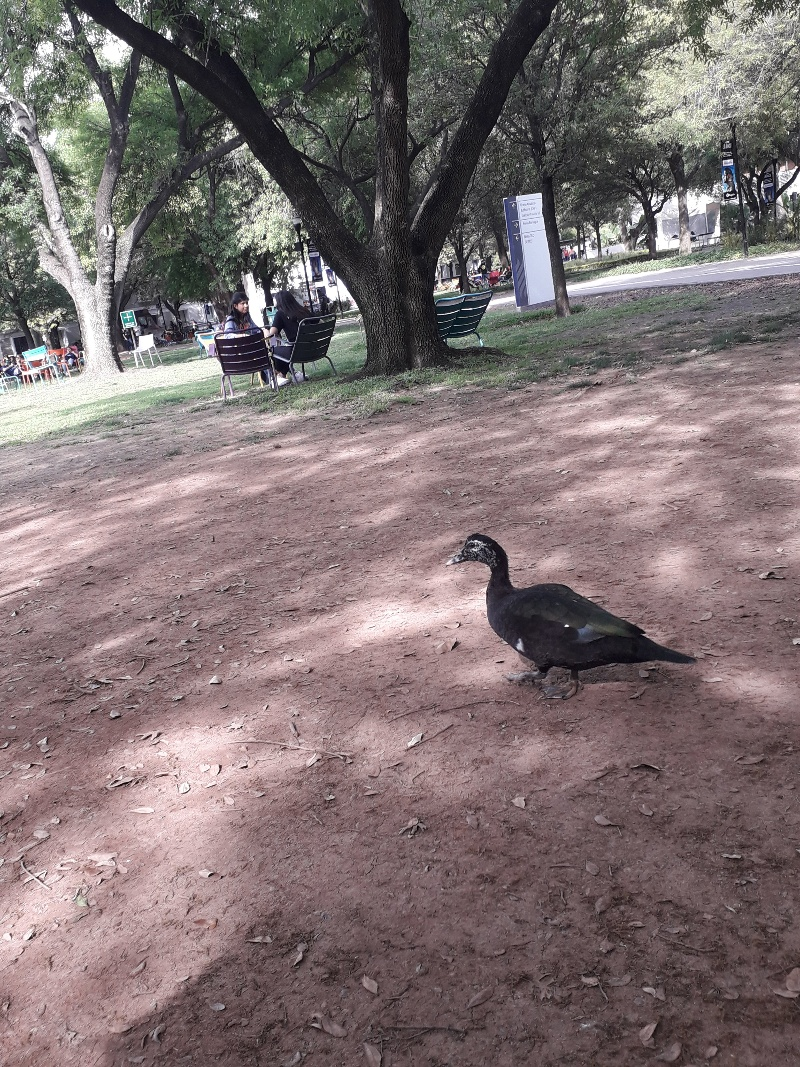pato: (458, 538, 678, 677)
